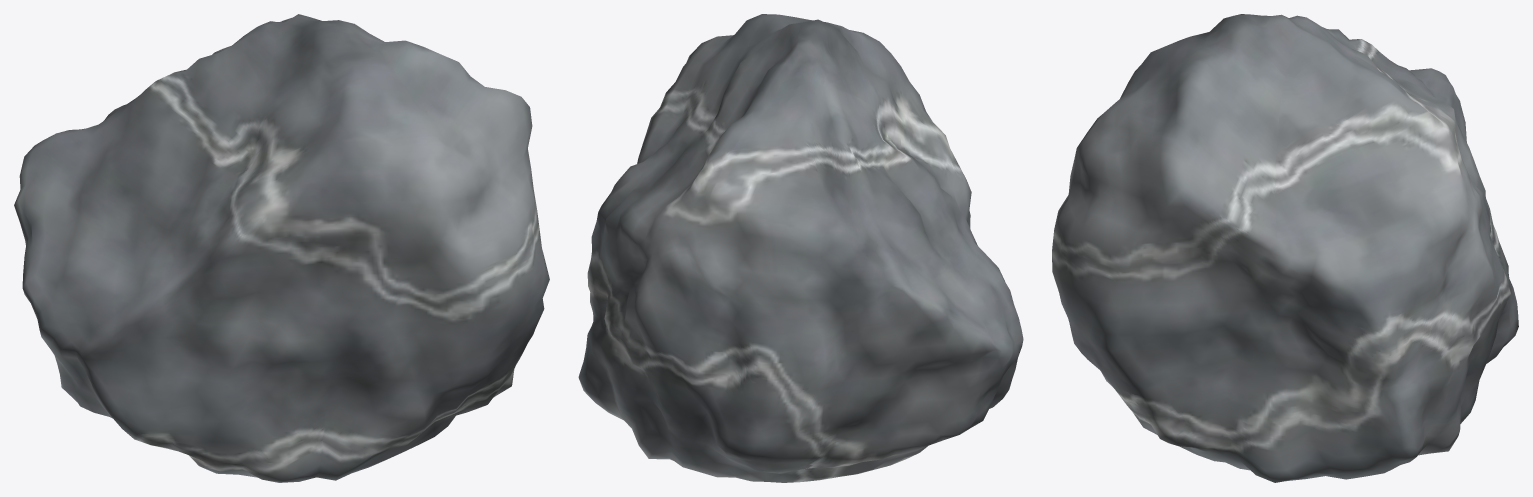
The model's file is stone_d.glb.
The picture shows the model from 3 angles, left to right: view 1: azimuth 30°, elevation 25°; view 2: azimuth 150°, elevation 25°; view 3: azimuth 270°, elevation 25°; orthographic projection. The views are drawn at different scales.
Visible parts, largest first — view 1: stone_d; view 2: stone_d; view 3: stone_d.
Boxes of the visible parts, left/top/right/bottom form: stone_d: left=14, top=14, right=549, bottom=482; stone_d: left=578, top=14, right=1023, bottom=482; stone_d: left=1052, top=14, right=1518, bottom=482.
Size of the model in its own units: 7.7 by 7.3 by 7.54.
Materials: 1 (1 with a texture image).
